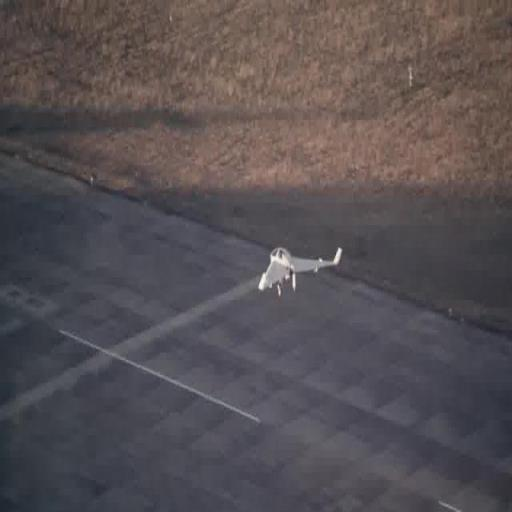uav: (254, 238, 346, 308)
